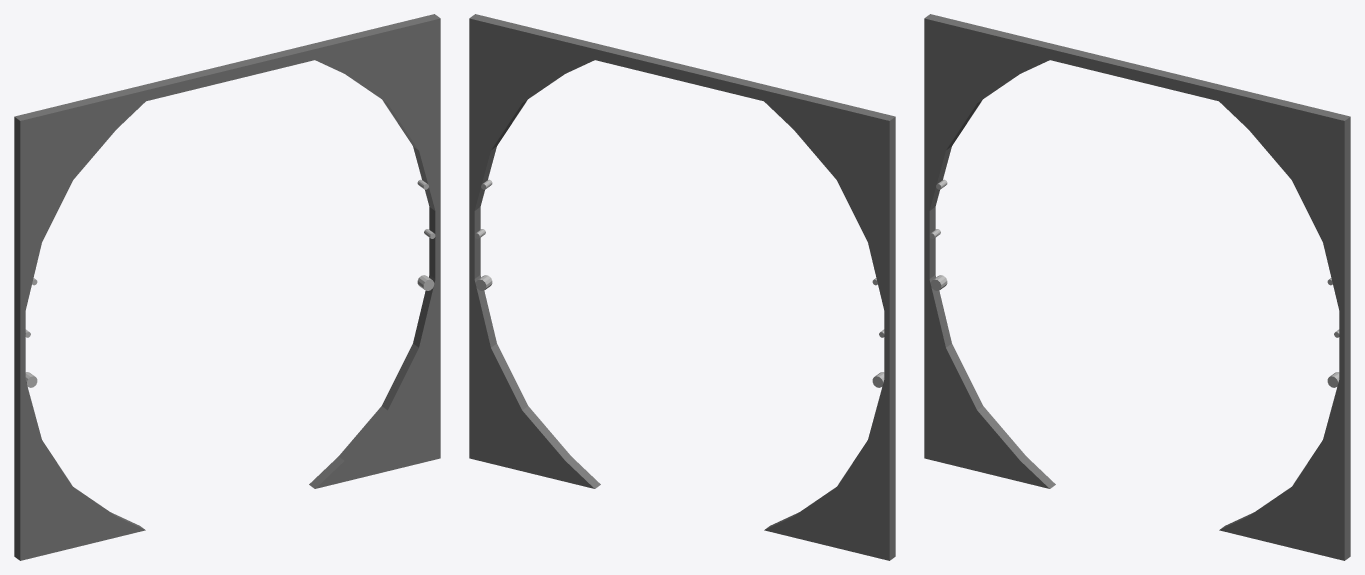
Rendered from dc_metro_tunnel.obj.
3 views of the same model, side by side, from view 1: azimuth 30°, elevation 25°; view 2: azimuth 150°, elevation 25°; view 3: azimuth 330°, elevation 25° (orthographic).
Visible parts, largest first — view 1: mesh, cylinder; view 2: mesh, cylinder; view 3: mesh, cylinder.
Boxes of the visible parts, box(x1,y1,x2,y2) form: mesh: box(14, 14, 440, 560); cylinder: box(25, 179, 435, 387); mesh: box(469, 14, 895, 560); cylinder: box(474, 179, 884, 387); mesh: box(924, 14, 1350, 560); cylinder: box(929, 179, 1339, 387).
Bounding box in the file's own units: 5 × 5 × 0.125.
Materials: 2 (2 with a texture image).
